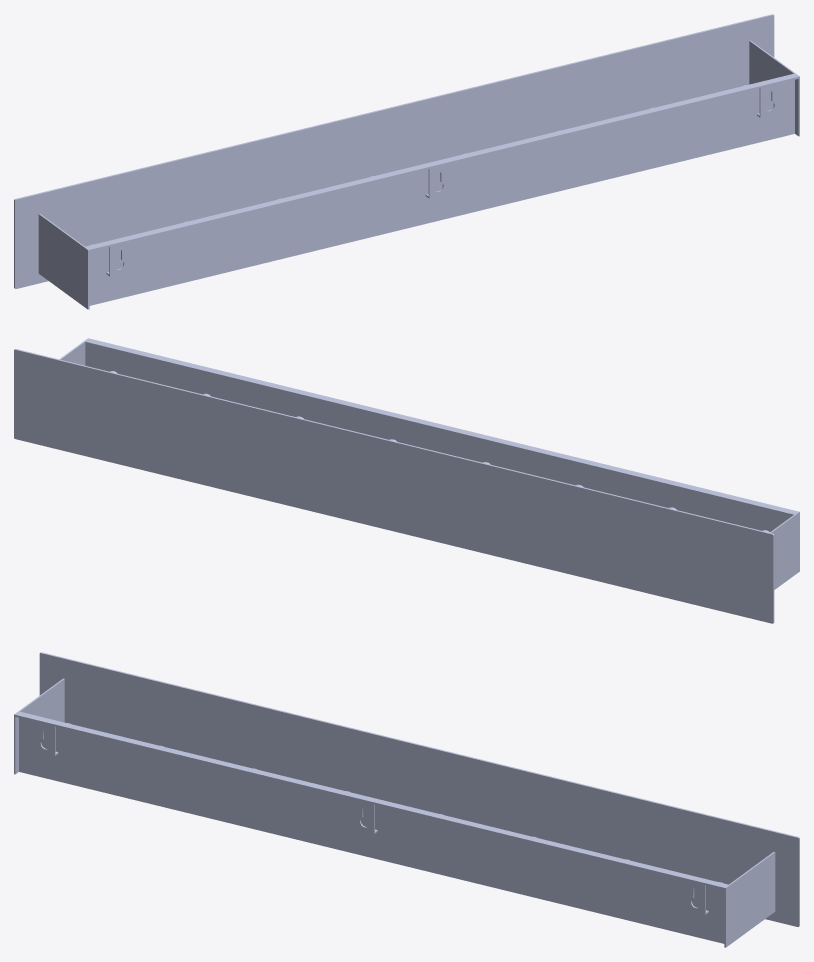
File: skyline-hook.296002e18e.glb
3 views of the same model, one above another, from view 1: azimuth 30°, elevation 25°; view 2: azimuth 150°, elevation 25°; view 3: azimuth 330°, elevation 25° (orthographic).
Parts seen in each view (by area): view 1: NAUO1; view 2: NAUO1; view 3: NAUO1.
Part boxes in pixels (x1,y1,x2,y2): NAUO1: (14, 14, 799, 309); NAUO1: (14, 338, 799, 623); NAUO1: (14, 652, 799, 947).
Size of the model in its own units: 0.8 by 0.0899 by 0.092.
